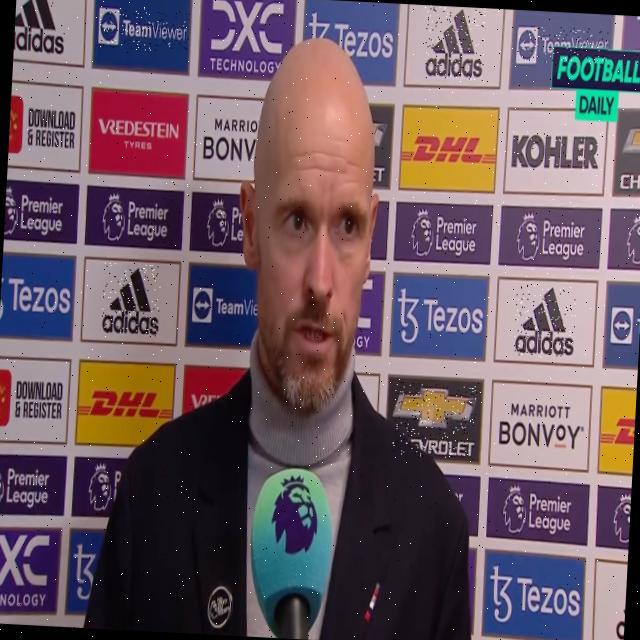Adidas: (513, 285, 577, 360), (424, 5, 486, 81), (101, 263, 162, 339), (14, 0, 68, 56)
Chevrolet: (392, 382, 478, 460)
Kohler: (511, 130, 600, 175)
TeamViewer: (98, 6, 190, 53), (517, 26, 609, 67)
